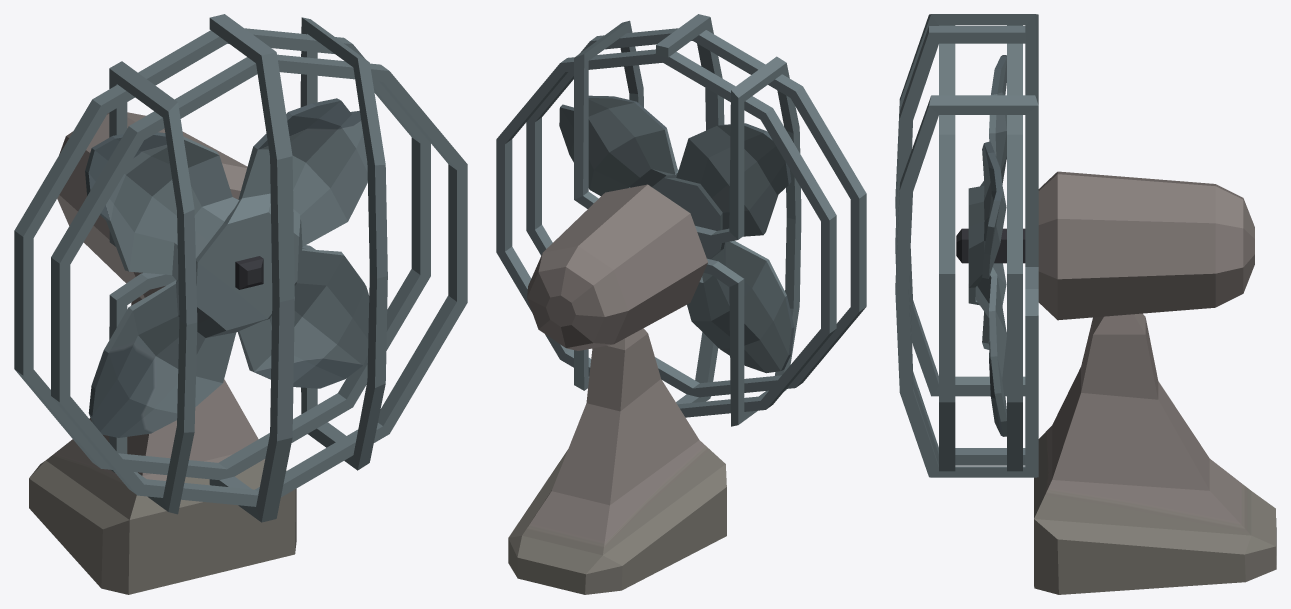
The model's file is SM_Table_Fan.fbx.
3 renders of one model, left to right at view 1: azimuth 30°, elevation 25°; view 2: azimuth 150°, elevation 25°; view 3: azimuth 270°, elevation 25°, orthographic. The views are drawn at different scales.
Visible parts, largest first — view 1: SM_Table_Fan_Head, SM_Table_Fan_Blade, SM_Table_Fan; view 2: SM_Table_Fan_Head, SM_Table_Fan, SM_Table_Fan_Blade; view 3: SM_Table_Fan_Head, SM_Table_Fan, SM_Table_Fan_Blade.
Boxes of the visible parts, <box> form: SM_Table_Fan_Head: <box>14,14,467,522</box>; SM_Table_Fan_Blade: <box>85,98,369,437</box>; SM_Table_Fan: <box>29,297,296,594</box>; SM_Table_Fan_Head: <box>496,14,866,426</box>; SM_Table_Fan: <box>508,328,726,594</box>; SM_Table_Fan_Blade: <box>559,95,794,373</box>; SM_Table_Fan_Head: <box>895,14,1254,477</box>; SM_Table_Fan: <box>1034,313,1276,594</box>; SM_Table_Fan_Blade: <box>968,55,1006,436</box>.
Size of the model in its own units: 46.68 by 61.5 by 40.75.
